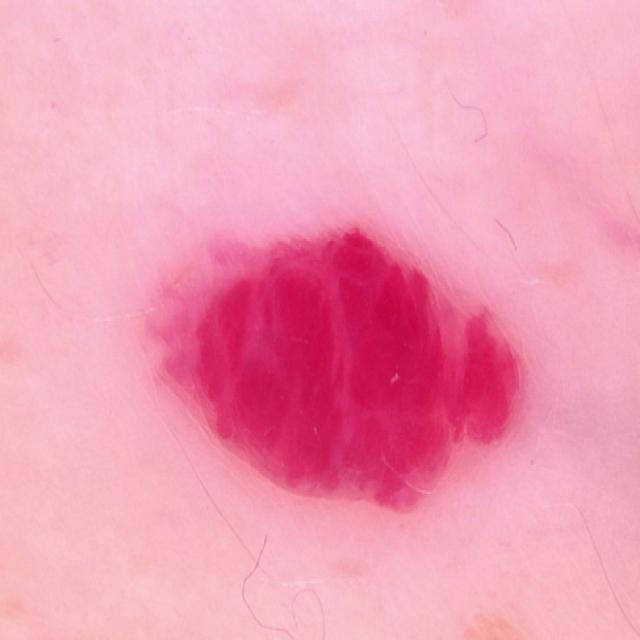Vascular Lesions: (136, 231, 577, 541)
